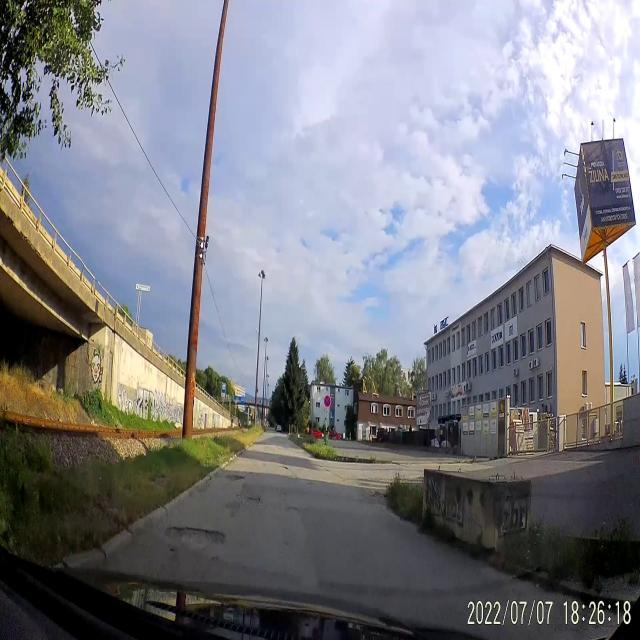Pothole: (164, 520, 226, 547), (226, 487, 264, 516), (220, 468, 246, 486), (284, 502, 302, 518), (370, 488, 387, 502), (278, 462, 290, 474)
